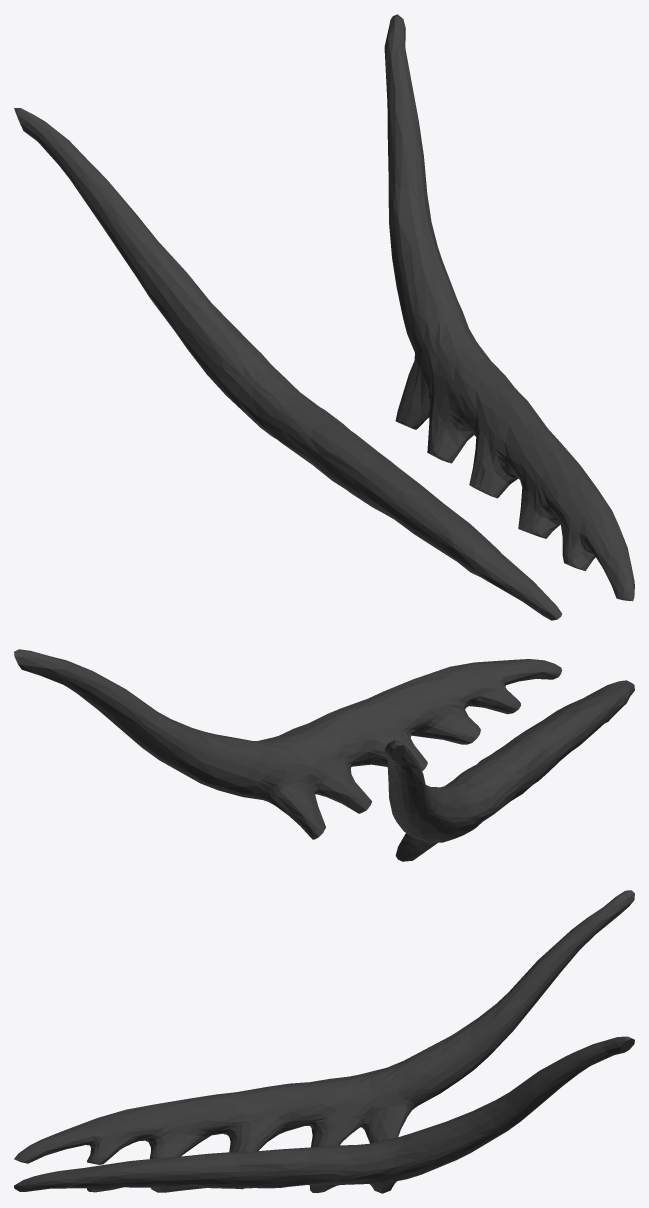
The model's file is m_psoas_major.glb.
The picture shows the model from 3 angles, top to bottom: view 1: azimuth 30°, elevation 25°; view 2: azimuth 150°, elevation 25°; view 3: azimuth 270°, elevation 25°; orthographic projection. The views are drawn at different scales.
Parts seen in each view (by area): view 1: m_psoas_major; view 2: m_psoas_major; view 3: m_psoas_major.
Boxes of the visible parts, x1,y1,x2,y2 form: m_psoas_major: (14,14,634,620); m_psoas_major: (14,649,634,861); m_psoas_major: (14,890,634,1193).
Size of the model in its own units: 0.00346 by 0.0023 by 0.00606.
Materials: 1 (1 with a texture image).
